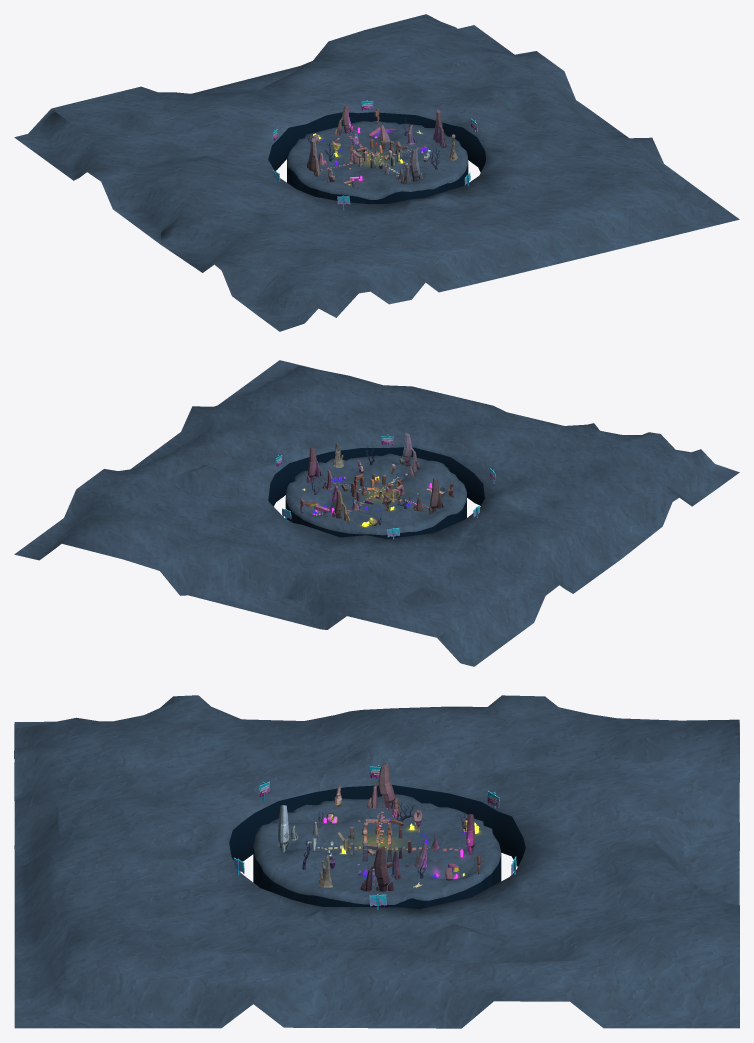
Rendered from portalworld16.glb.
3 views of the same model, one above another, from view 1: azimuth 30°, elevation 25°; view 2: azimuth 150°, elevation 25°; view 3: azimuth 270°, elevation 25° (orthographic). The views are drawn at different scales.
Visible parts, largest first — view 1: ground, epicrocks, randomrocks; view 2: ground, epicrocks, randomrocks; view 3: ground, epicrocks, mediumrocks, randomrocks.
Part boxes in pixels (x1,y1,x2,y2): ground: [14, 14, 739, 331]; epicrocks: [307, 104, 446, 183]; randomrocks: [311, 108, 402, 184]; ground: [14, 360, 739, 666]; epicrocks: [307, 433, 443, 521]; randomrocks: [300, 459, 454, 525]; ground: [14, 695, 739, 1028]; epicrocks: [278, 763, 475, 891]; mediumrocks: [311, 810, 427, 879]; randomrocks: [291, 785, 480, 880].
Size of the model in its own units: 1452 by 205 by 1453.
Materials: 28 (16 with a texture image).
